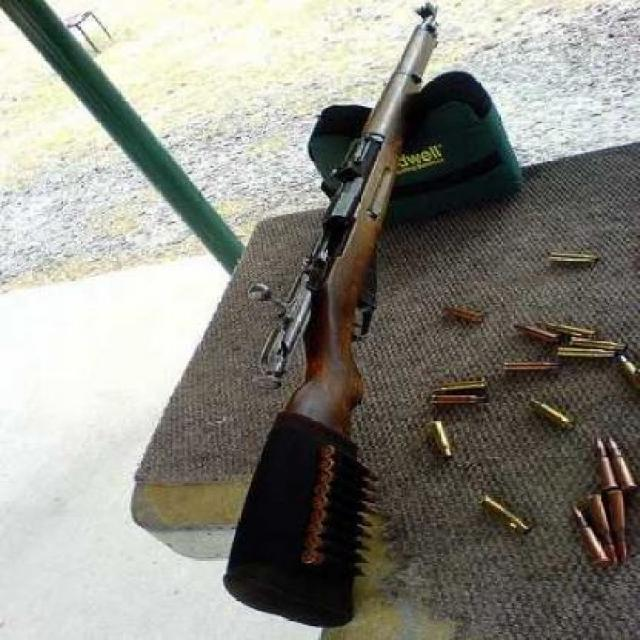weapon: (264, 14, 438, 622)
